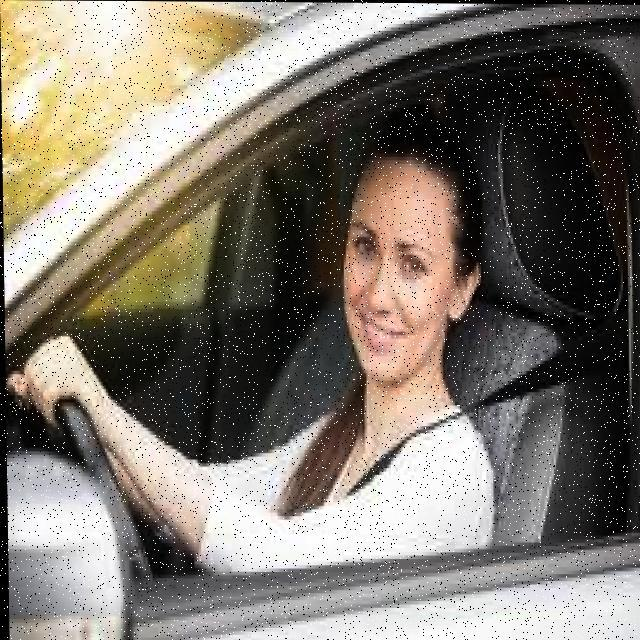seatbelt: (322, 334, 568, 525)
